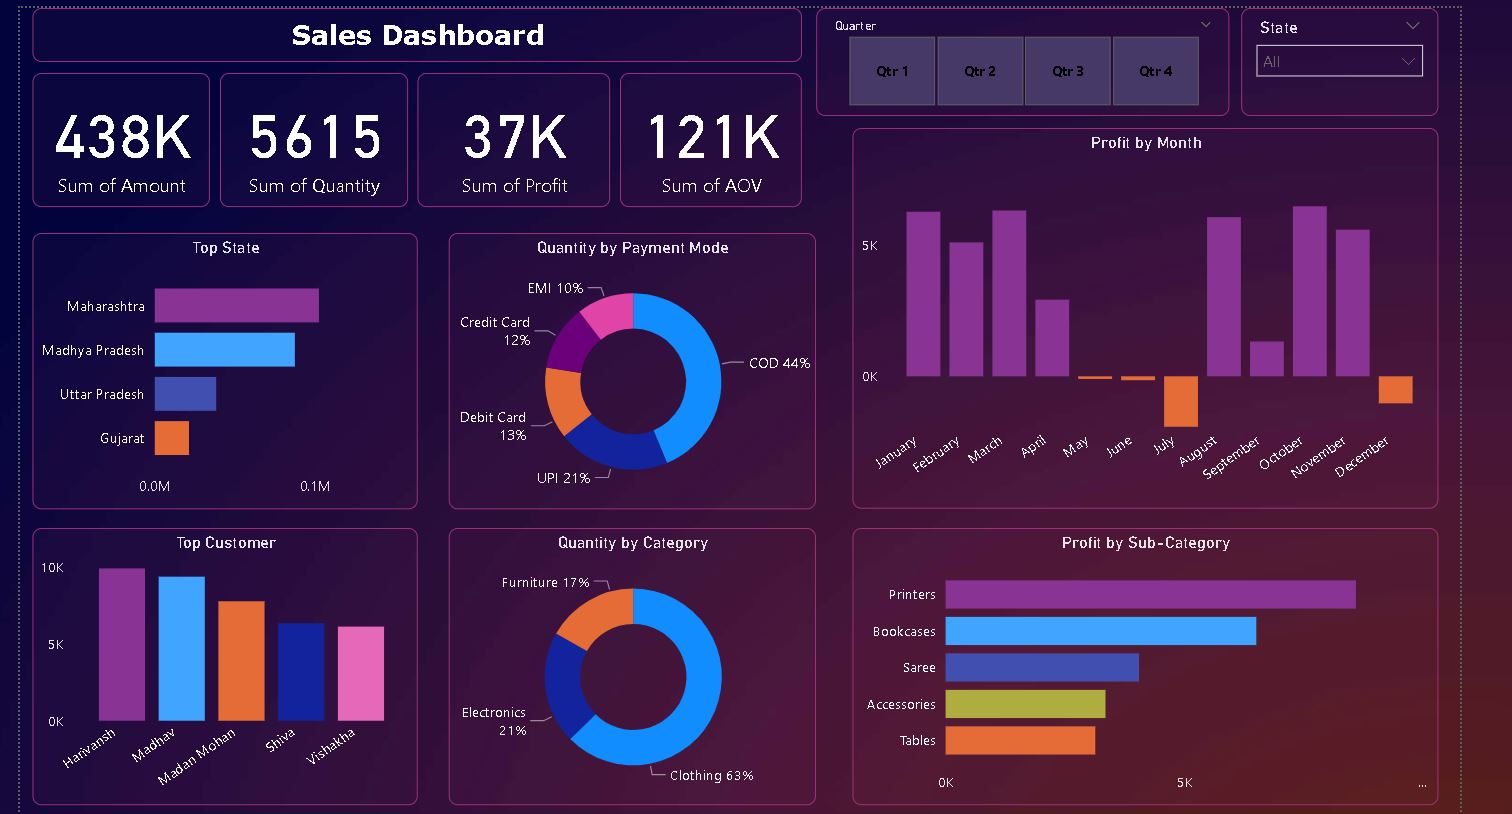

This screenshot's page, from the dashboard's own definition file:
{"tool":"powerbi","page":{"name":"Sales","canvas":[1280,720],"ordinal":0},"visuals":[{"type":"columnChart","title":" Profit by Month","fields":{"Y":["Details.Profit"],"Category":["Orders.Order Date.Variation.Date Hierarchy.Month"]},"box":[740.4,106.9,521,338.6],"z":0},{"type":"barChart","title":"Profit by Sub-Category","fields":{"Y":["Details.Profit"],"Category":["Details.Sub-Category"]},"box":[740.4,462,521,246.8],"z":1000},{"type":"donutChart","title":"Quantity by Category","fields":{"Category":["Details.Category"],"Y":["Details.Quantity"]},"box":[381.2,462,326.3,246.8],"z":2000},{"type":"donutChart","title":"Quantity by Payment Mode","fields":{"Y":["Details.Quantity"],"Category":["Details.PaymentMode"]},"box":[381.2,200.2,326.3,245.4],"z":3000},{"type":"barChart","title":"Top State","fields":{"Category":["Orders.State"],"Y":["Details.Amount"]},"box":[11,200.2,342.8,245.4],"z":4000},{"type":"card","fields":{"Values":["Details.Amount"]},"box":[11,57.6,157.7,119.3],"z":5000},{"type":"card","fields":{"Values":["Details.Quantity"]},"box":[178.2,57.6,167.3,119.3],"z":6000},{"type":"card","fields":{"Values":["Details.Profit"]},"box":[353.7,57.6,171.4,119.3],"z":7000},{"type":"card","fields":{"Values":["Details.Adv"]},"box":[533.3,57.6,161.8,119.3],"z":8000},{"type":"columnChart","title":"Top Customer","fields":{"Category":["Orders.CustomerName"],"Y":["Details.Amount"]},"box":[11,462,342.8,246.8],"z":9000},{"type":"textbox","box":[11,0,684.2,48],"z":10000},{"type":"slicer","fields":{"Values":["Orders.Order Date.Variation.Date Hierarchy.Quarter"]},"box":[707.5,0,367.4,96],"z":11000},{"type":"slicer","fields":{"Values":["Orders.State"]},"box":[1085.9,0,175.5,96],"z":12000}]}

Visuals, with their boxes on the page's 1280x720 design canvas (x1, y1, x2, y2). These are canvas units, not pixel positions in the 1512x814 screenshot, which may show the page scaled, cropped or inside an application window:
" Profit by Month" columnChart: {"left": 740, "top": 107, "right": 1261, "bottom": 446}
"Profit by Sub-Category" barChart: {"left": 740, "top": 462, "right": 1261, "bottom": 709}
"Quantity by Category" donutChart: {"left": 381, "top": 462, "right": 708, "bottom": 709}
"Quantity by Payment Mode" donutChart: {"left": 381, "top": 200, "right": 708, "bottom": 446}
"Top State" barChart: {"left": 11, "top": 200, "right": 354, "bottom": 446}
card - Details.Amount: {"left": 11, "top": 58, "right": 169, "bottom": 177}
card - Details.Quantity: {"left": 178, "top": 58, "right": 346, "bottom": 177}
card - Details.Profit: {"left": 354, "top": 58, "right": 525, "bottom": 177}
card - Details.Adv: {"left": 533, "top": 58, "right": 695, "bottom": 177}
"Top Customer" columnChart: {"left": 11, "top": 462, "right": 354, "bottom": 709}
textbox: {"left": 11, "top": 0, "right": 695, "bottom": 48}
slicer - Orders.Order Date.Variation.Date Hierarchy.Quarter: {"left": 708, "top": 0, "right": 1075, "bottom": 96}
slicer - Orders.State: {"left": 1086, "top": 0, "right": 1261, "bottom": 96}
